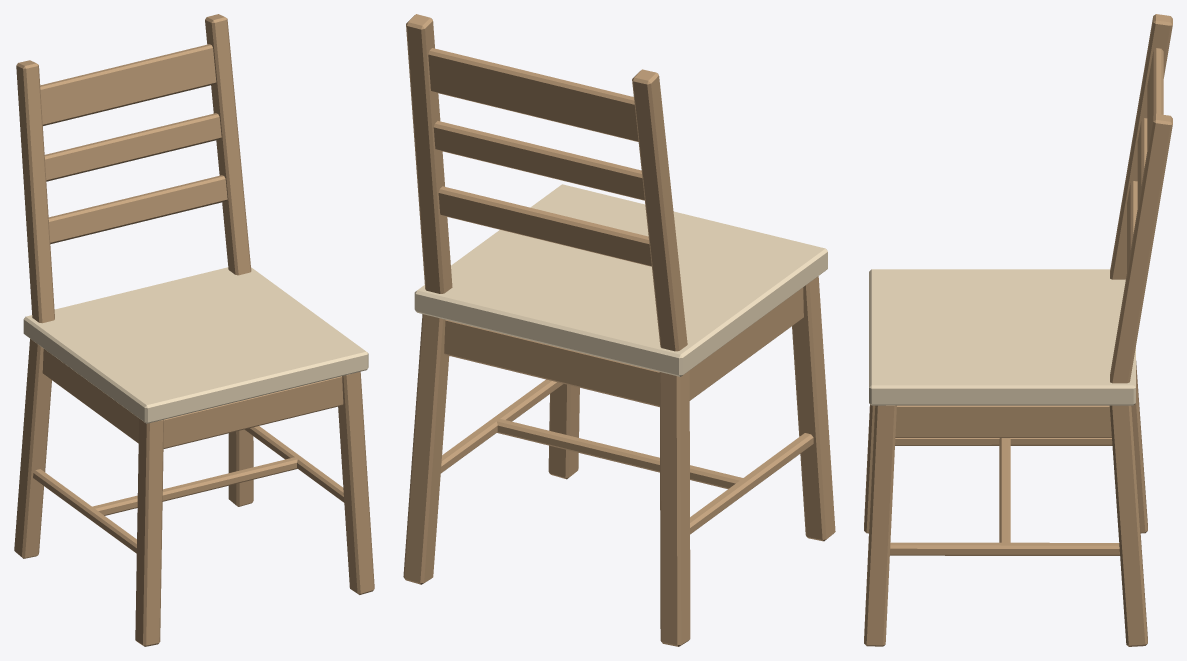
Rendered from chair.glb.
The picture shows the model from 3 angles, left to right: view 1: azimuth 30°, elevation 25°; view 2: azimuth 150°, elevation 25°; view 3: azimuth 270°, elevation 25°; orthographic projection. The views are drawn at different scales.
Visible parts, largest first — view 1: chair; view 2: chair; view 3: chair.
Boxes of the visible parts, x1,y1,x2,y2 form: chair: (14, 14, 374, 646); chair: (403, 14, 835, 646); chair: (864, 14, 1172, 646).
Size of the model in its own units: 0.4557 by 0.9033 by 0.4857.
